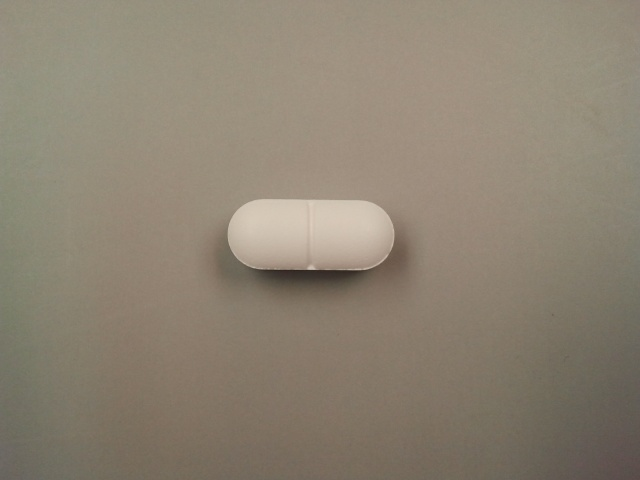|: (297, 194, 324, 276)
